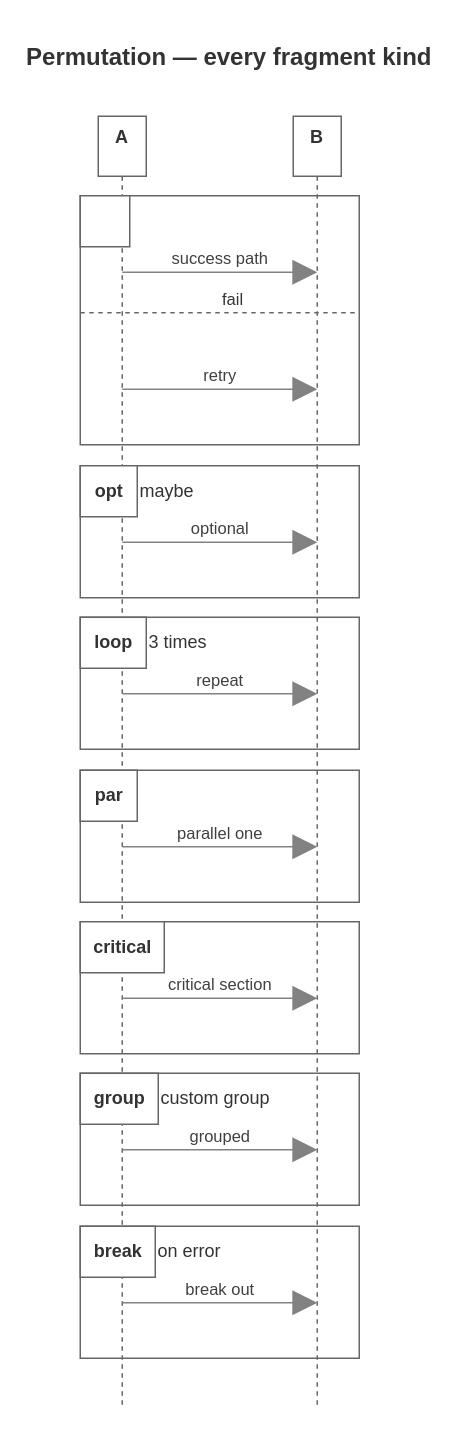
Image size: 456x1434. Some labels were removed from this diagram. Each missing label, with the box of its shape:
alt: (79, 194, 130, 247)
ok: (79, 194, 359, 445)
